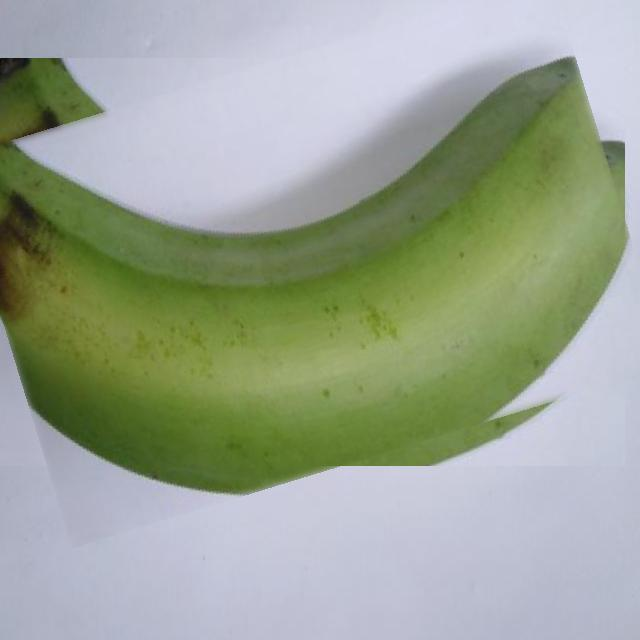Verde: (0, 17, 640, 507)
